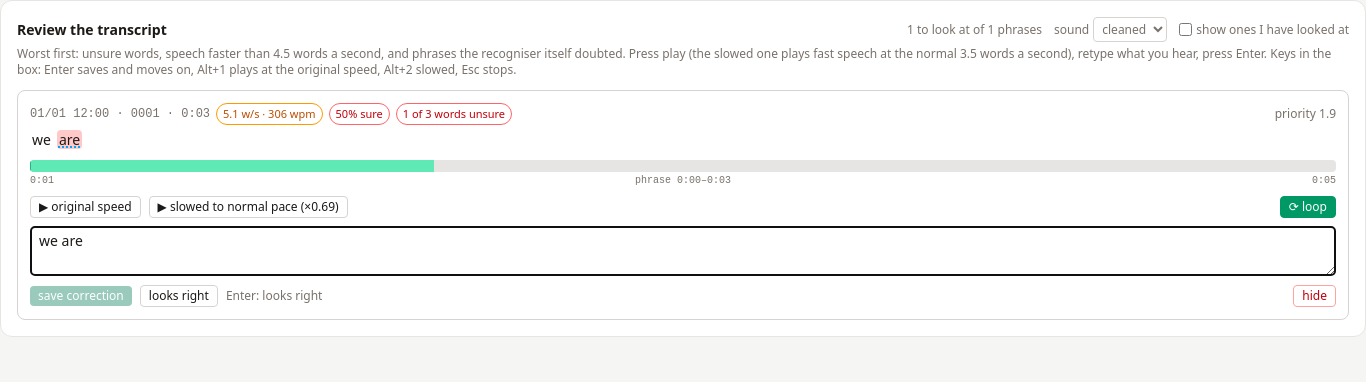
ReviewPage › shows corrected words underlined and the error when saving fails
Expected: the text box named "what was said" holds "we are", [30,226,1336,276]
Click the button "looks right": point(179, 296) [140,285,218,307]
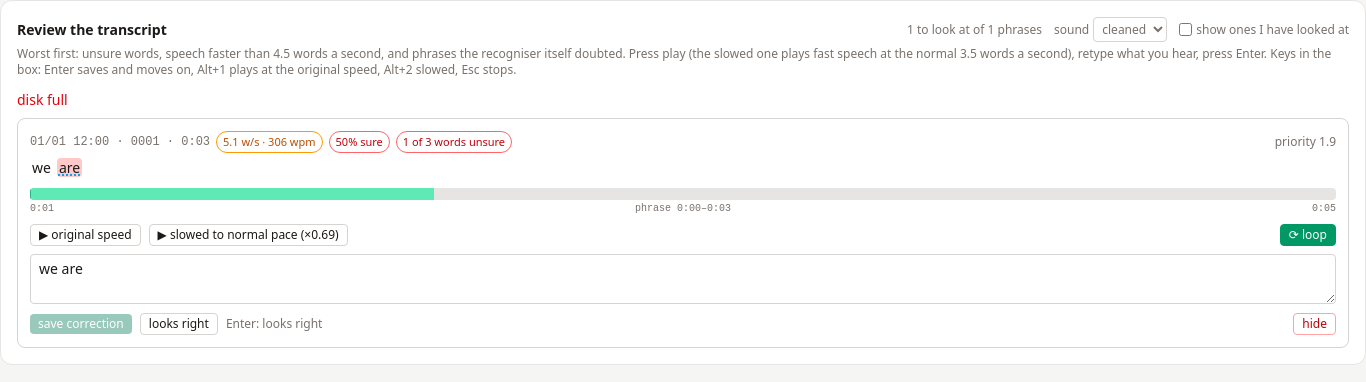
Expected: the message reads "disk full", [17,90,68,109]
